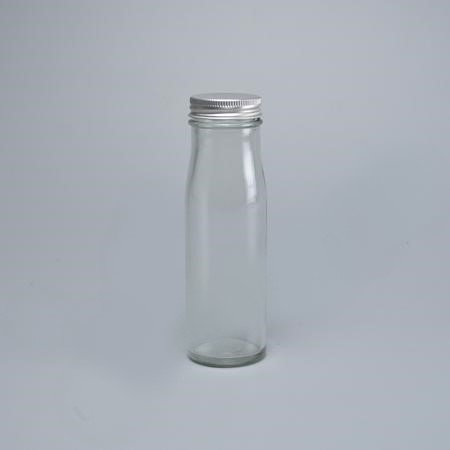glass_bottle: (170, 83, 286, 380)
